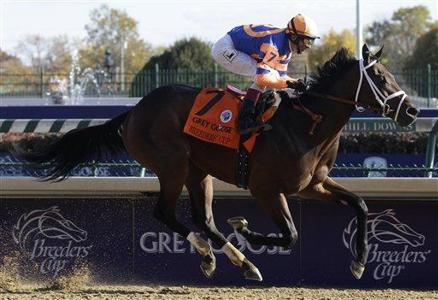person: (210, 13, 319, 138)
